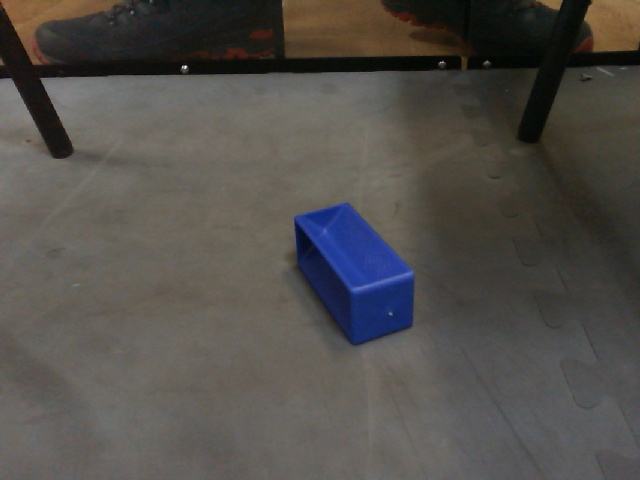BlueSample: (290, 199, 419, 348)
